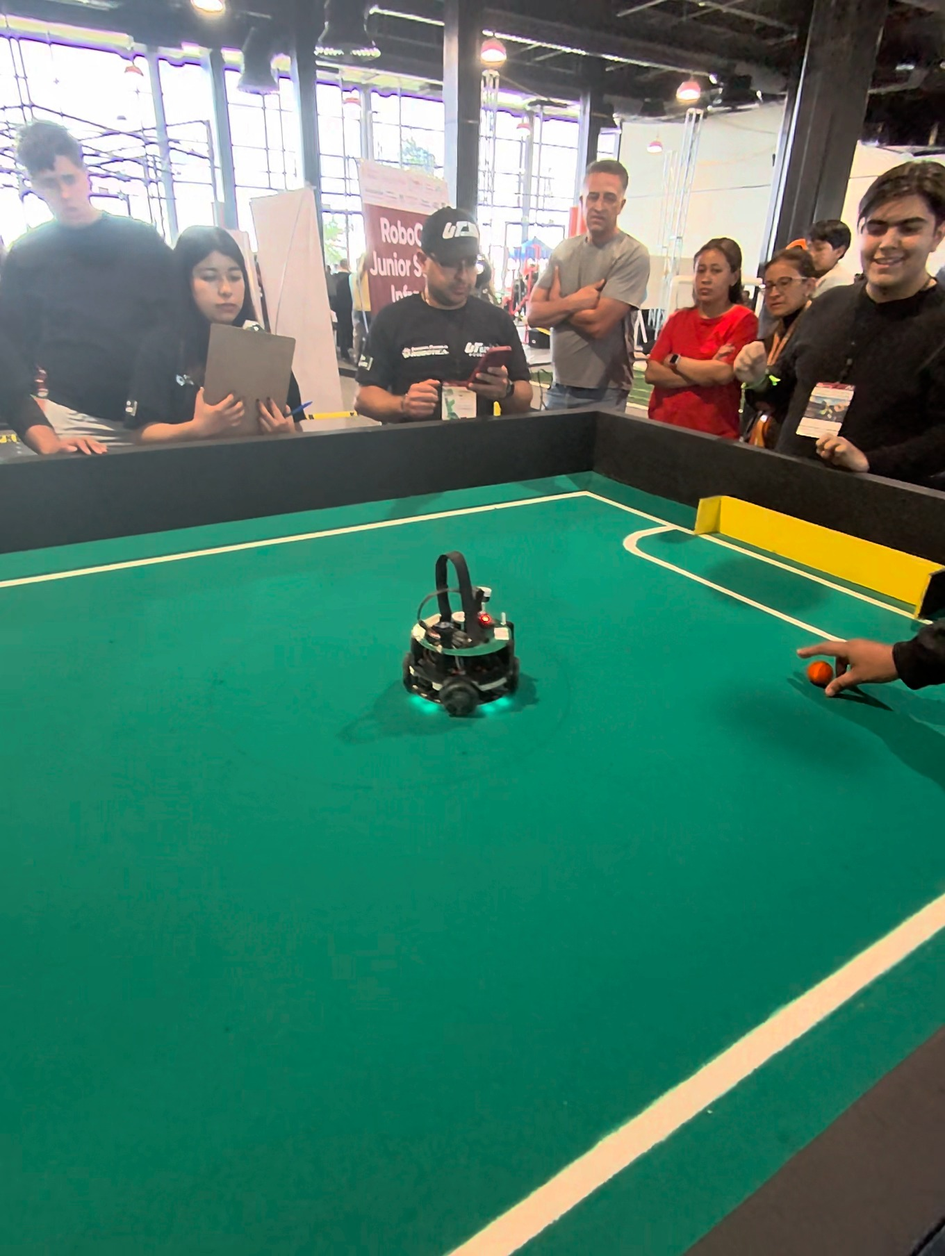Robot: (403, 547, 525, 735)
pelota: (794, 639, 850, 702)
